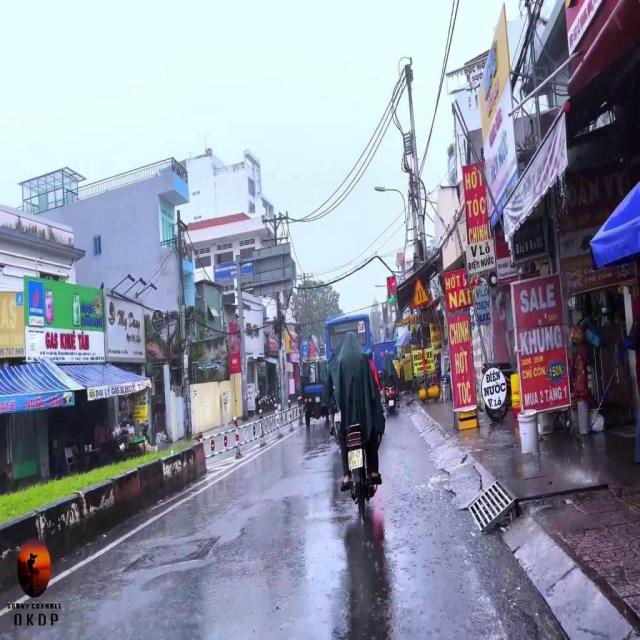khac: (409, 274, 429, 309)
